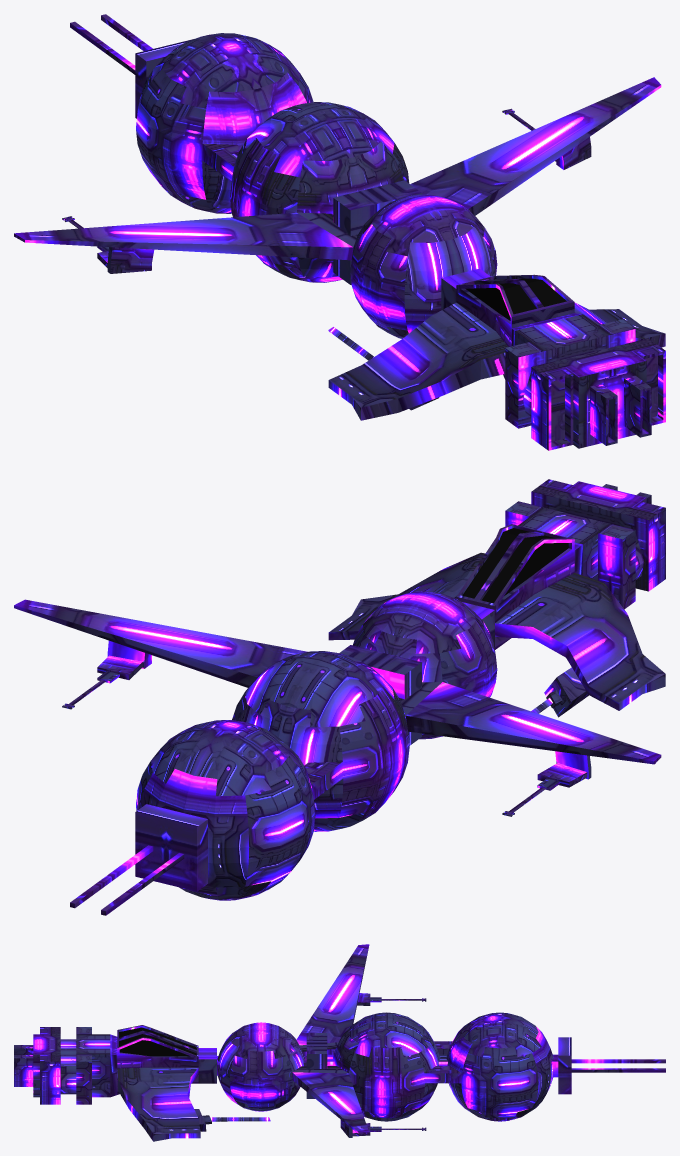
File: Enemy2FBX.fbx
3 views of the same model, one above another, from view 1: azimuth 30°, elevation 25°; view 2: azimuth 150°, elevation 25°; view 3: azimuth 270°, elevation 25° (orthographic). The views are drawn at different scales.
Visible parts, largest first — view 1: Cube; view 2: Cube; view 3: Cube.
Boxes of the visible parts, left/top/right/bottom form: Cube: left=14, top=14, right=665, bottom=450; Cube: left=14, top=479, right=665, bottom=915; Cube: left=14, top=944, right=665, bottom=1141.
Size of the model in its own units: 1881 by 2751 by 461.
2 materials, 1 textured.
